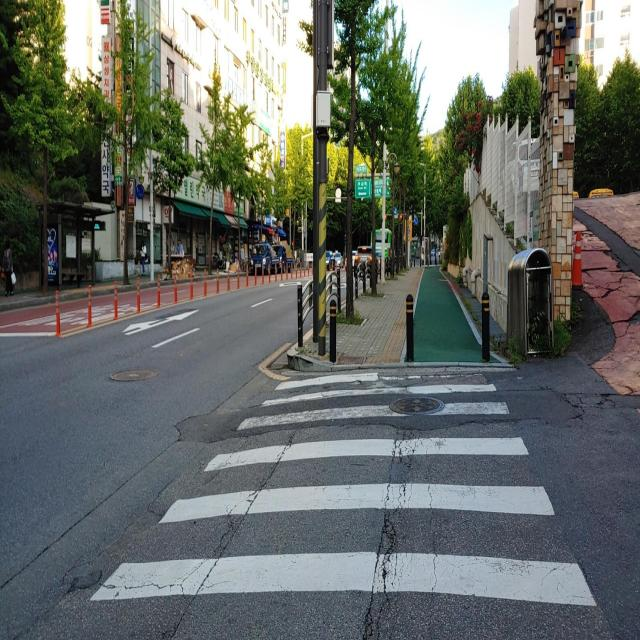횡단보도: (88, 370, 599, 610)
